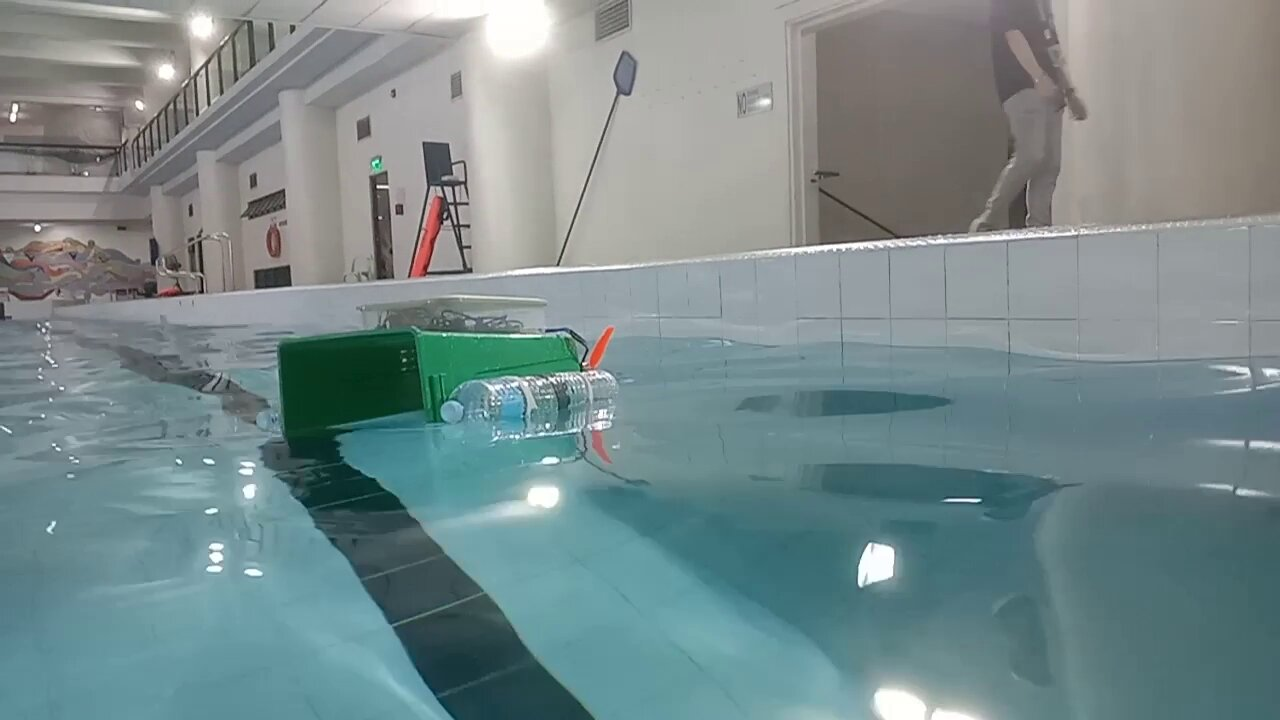drone: (255, 294, 619, 442)
